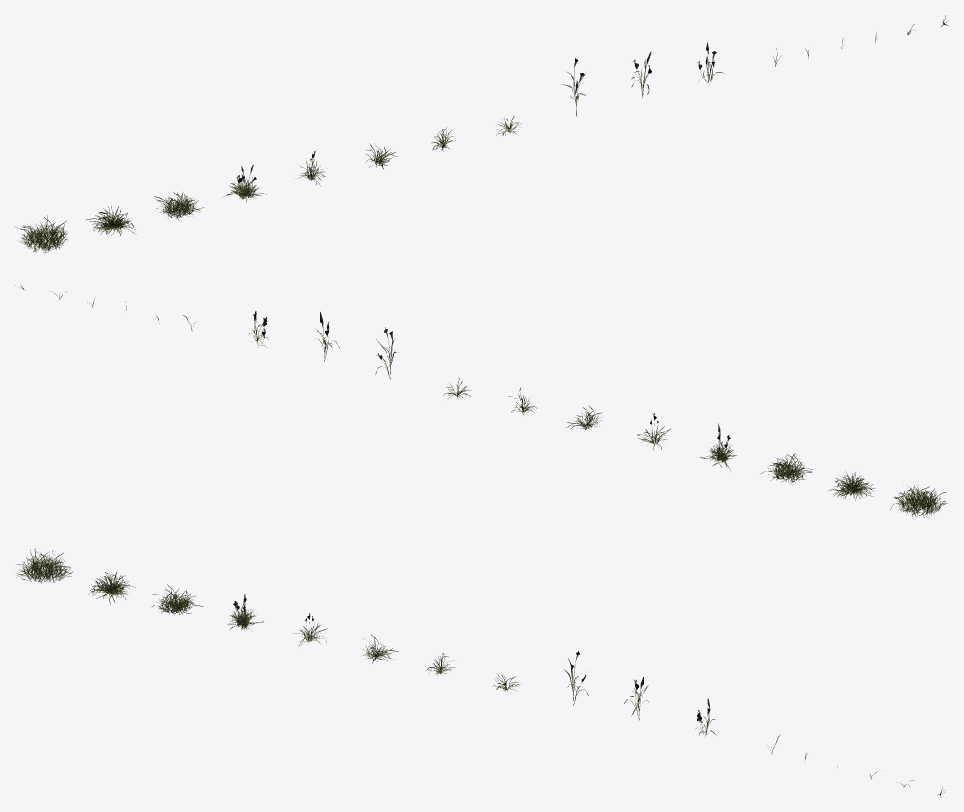
Rendered from grass_medium_01.gltf.
3 views of the same model, one above another, from view 1: azimuth 30°, elevation 25°; view 2: azimuth 150°, elevation 25°; view 3: azimuth 330°, elevation 25° (orthographic).
Visible parts, largest first — view 1: grass_medium_01_large_a_LOD0, grass_medium_01_large_b_LOD0, grass_medium_01_large_c_LOD0; view 2: grass_medium_01_large_a_LOD0, grass_medium_01_large_c_LOD0, grass_medium_01_large_b_LOD0; view 3: grass_medium_01_large_a_LOD0, grass_medium_01_large_c_LOD0, grass_medium_01_large_b_LOD0.
Part boxes in pixels (x1,y1,x2,y2): grass_medium_01_large_a_LOD0: [14, 215, 67, 253]; grass_medium_01_large_b_LOD0: [85, 206, 136, 235]; grass_medium_01_large_c_LOD0: [154, 192, 204, 220]; grass_medium_01_large_a_LOD0: [890, 485, 947, 517]; grass_medium_01_large_c_LOD0: [760, 453, 812, 485]; grass_medium_01_large_b_LOD0: [828, 471, 875, 500]; grass_medium_01_large_a_LOD0: [16, 548, 73, 583]; grass_medium_01_large_c_LOD0: [152, 584, 203, 615]; grass_medium_01_large_b_LOD0: [88, 572, 135, 604].
Size of the model in its own units: 5.6 by 0.3418 by 0.3266.
1 material, 1 textured.
